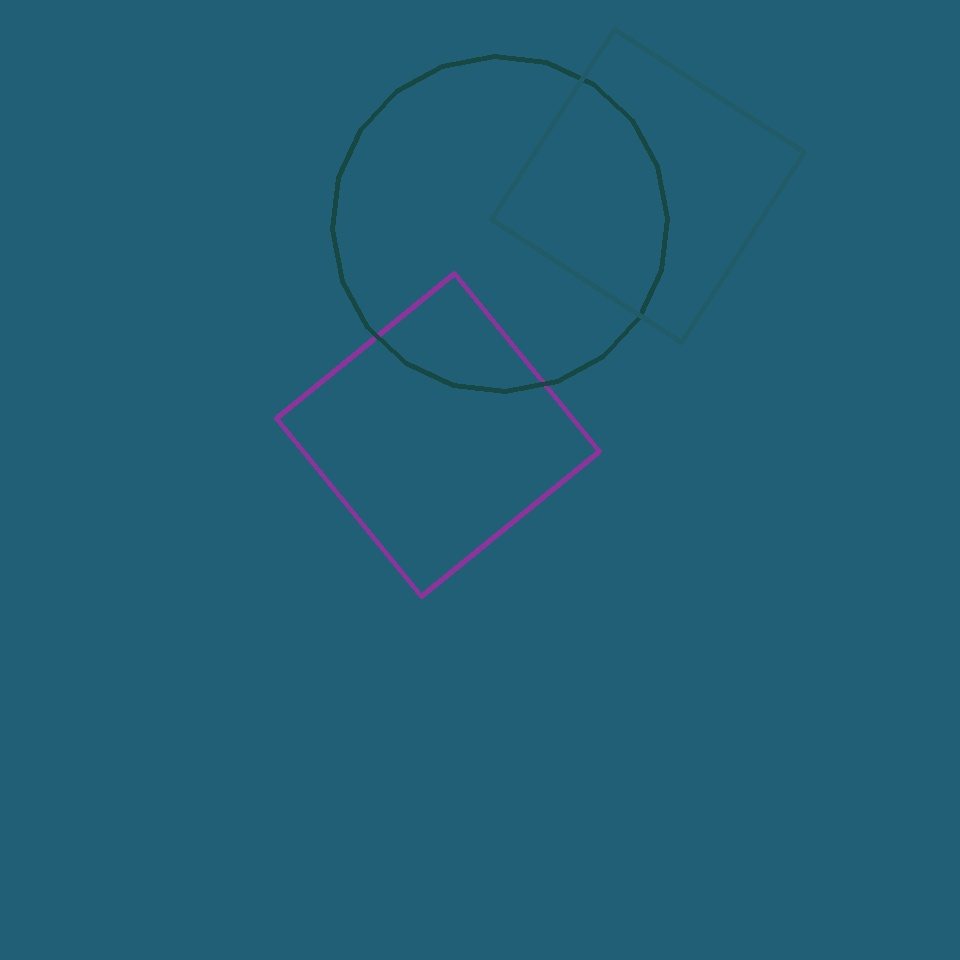square: (276, 274, 600, 596), (492, 30, 805, 343)
triangle: (333, 57, 668, 392)
